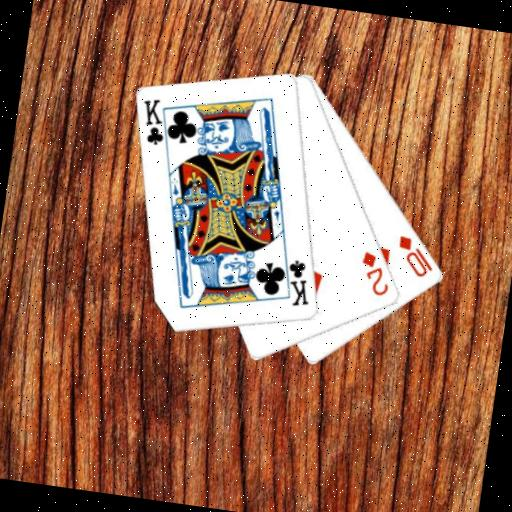10D: (391, 232, 439, 281)
2D: (355, 248, 396, 299)
KC: (135, 95, 178, 153), (275, 253, 317, 310)
